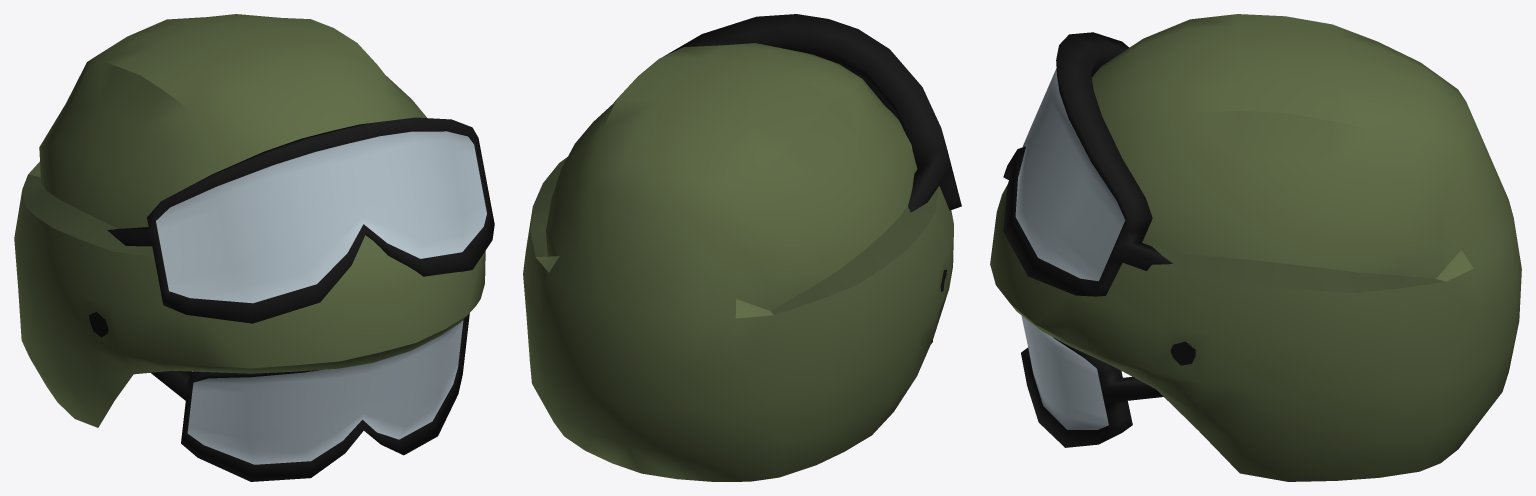
File: militaryHelmet.gltf
The picture shows the model from 3 angles, left to right: view 1: azimuth 30°, elevation 25°; view 2: azimuth 150°, elevation 25°; view 3: azimuth 270°, elevation 25°; orthographic projection. The views are drawn at different scales.
Visible parts, largest first — view 1: militaryHelmet, militaryHelmetGogglesTop, militaryHelmetGogglesFront; view 2: militaryHelmet, militaryHelmetGogglesTop; view 3: militaryHelmet, militaryHelmetGogglesTop, militaryHelmetGogglesFront.
Boxes of the visible parts, <box> form: militaryHelmet: <box>14,14,485,427</box>; militaryHelmetGogglesTop: <box>107,117,494,323</box>; militaryHelmetGogglesFront: <box>150,313,469,481</box>; militaryHelmet: <box>523,43,953,481</box>; militaryHelmetGogglesTop: <box>665,14,961,212</box>; militaryHelmet: <box>990,14,1521,481</box>; militaryHelmetGogglesTop: <box>1003,32,1172,296</box>; militaryHelmetGogglesFront: <box>1021,315,1163,447</box>.
Size of the model in its own units: 1.2 by 1.05 by 1.35.
